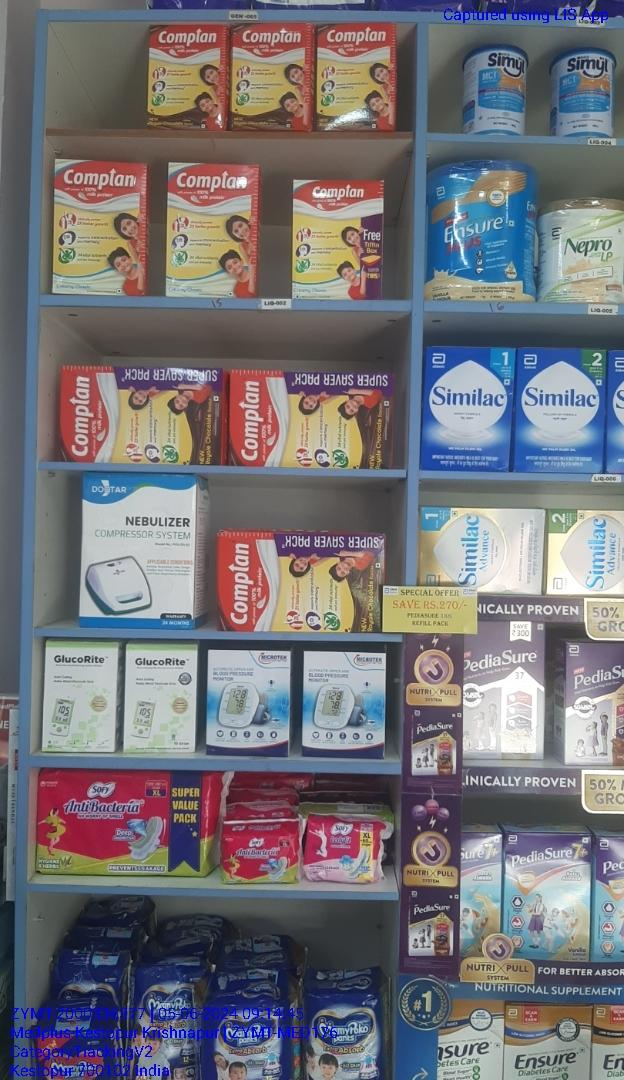COMPLAN_CHOCOLATE_500_GMS_PACK: (231, 23, 312, 131), (315, 24, 395, 131), (149, 26, 226, 131)
COMPLAN_CREAMY_CLASSIC_500_G_PACK: (52, 161, 145, 297), (167, 163, 257, 300), (293, 179, 380, 300)
